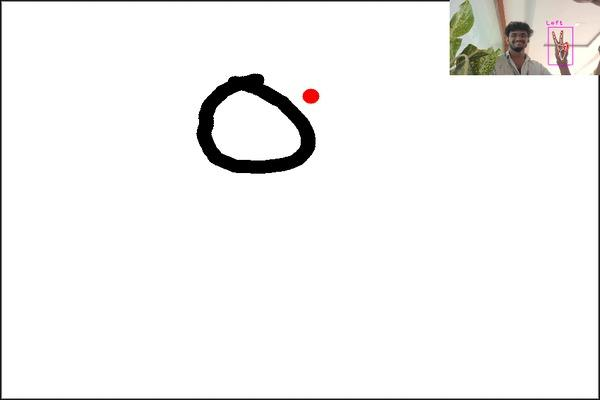O: (187, 66, 320, 191)
